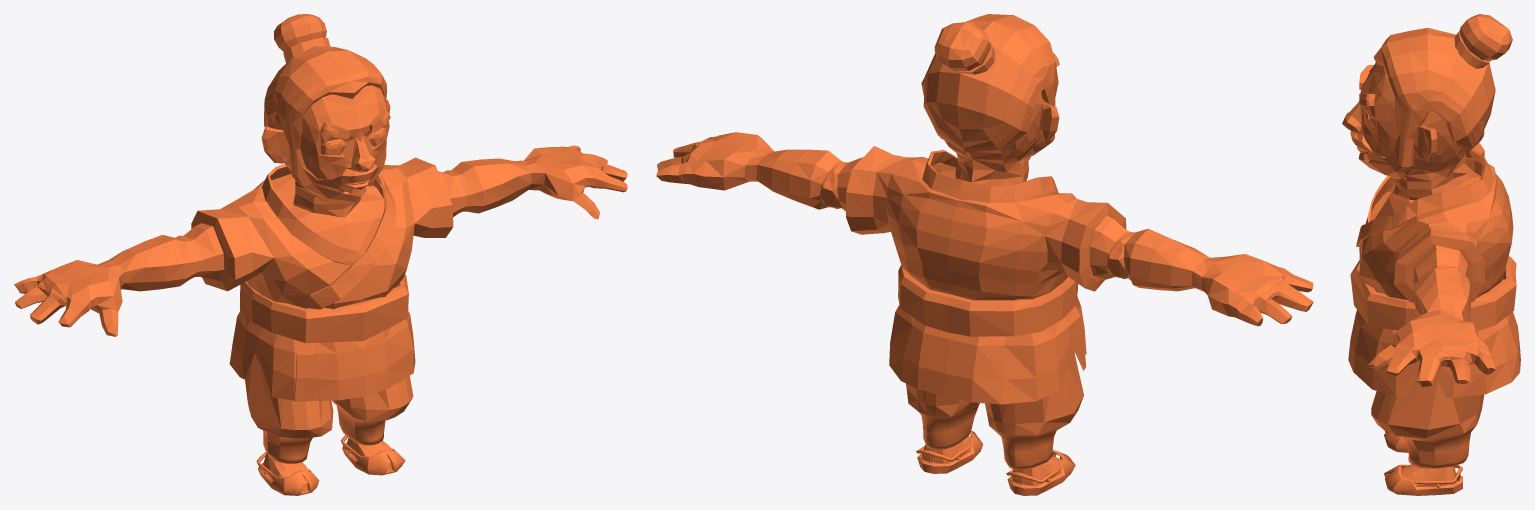
The model's file is 수행자_도색모델.fbx.
The picture shows the model from 3 angles, left to right: view 1: azimuth 30°, elevation 25°; view 2: azimuth 150°, elevation 25°; view 3: azimuth 270°, elevation 25°; orthographic projection. The views are drawn at different scales.
Parts seen in each view (by area): view 1: Body; view 2: Body; view 3: Body.
Boxes of the visible parts, x1,y1,x2,y2 form: Body: (14, 14, 627, 495); Body: (656, 14, 1313, 495); Body: (1342, 14, 1520, 495).
Size of the model in its own units: 209 by 147 by 52.84.
